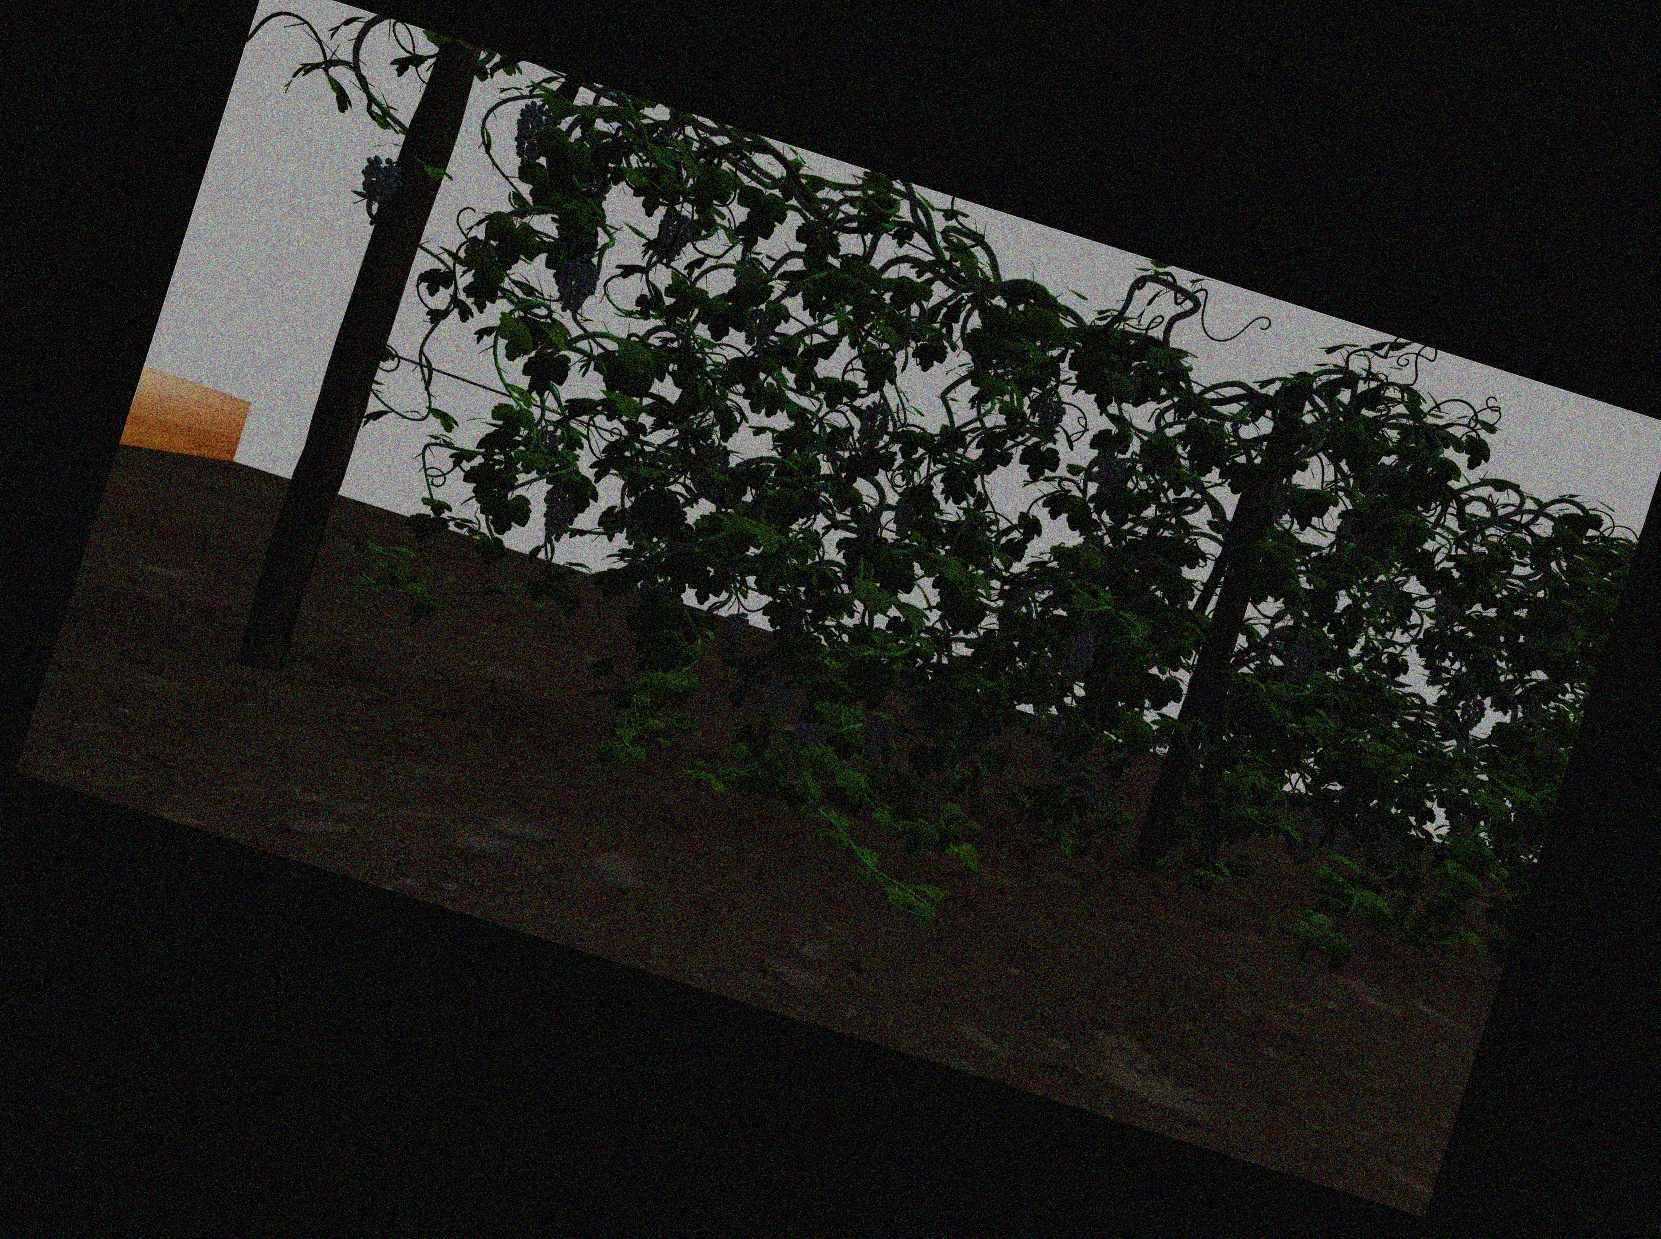grape: (555, 254, 596, 314), (1062, 617, 1097, 687), (514, 102, 551, 164), (653, 207, 689, 268), (540, 484, 577, 541), (359, 154, 401, 200), (1287, 808, 1321, 862), (717, 610, 748, 666), (695, 440, 728, 493), (857, 400, 888, 453), (765, 668, 797, 720), (1280, 642, 1317, 685), (860, 715, 889, 764), (890, 488, 919, 536), (1035, 390, 1064, 437), (1372, 825, 1403, 868), (739, 308, 773, 347), (1336, 515, 1364, 560), (1093, 456, 1123, 497), (1086, 770, 1116, 812), (939, 699, 968, 739), (794, 720, 830, 752), (1543, 610, 1572, 649), (1431, 592, 1459, 633), (1326, 826, 1352, 871), (1267, 480, 1293, 521), (1369, 578, 1398, 610), (1057, 750, 1086, 780), (1459, 698, 1484, 731)
